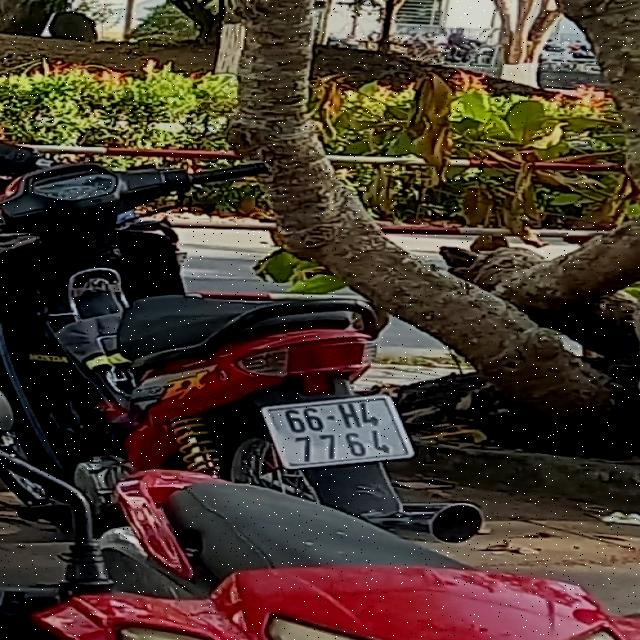4: (358, 402, 382, 428), (371, 430, 391, 454)
6: (302, 407, 326, 432), (344, 432, 367, 457), (284, 409, 306, 434)
7: (318, 434, 340, 460), (294, 436, 313, 463)
H: (337, 402, 362, 428)
